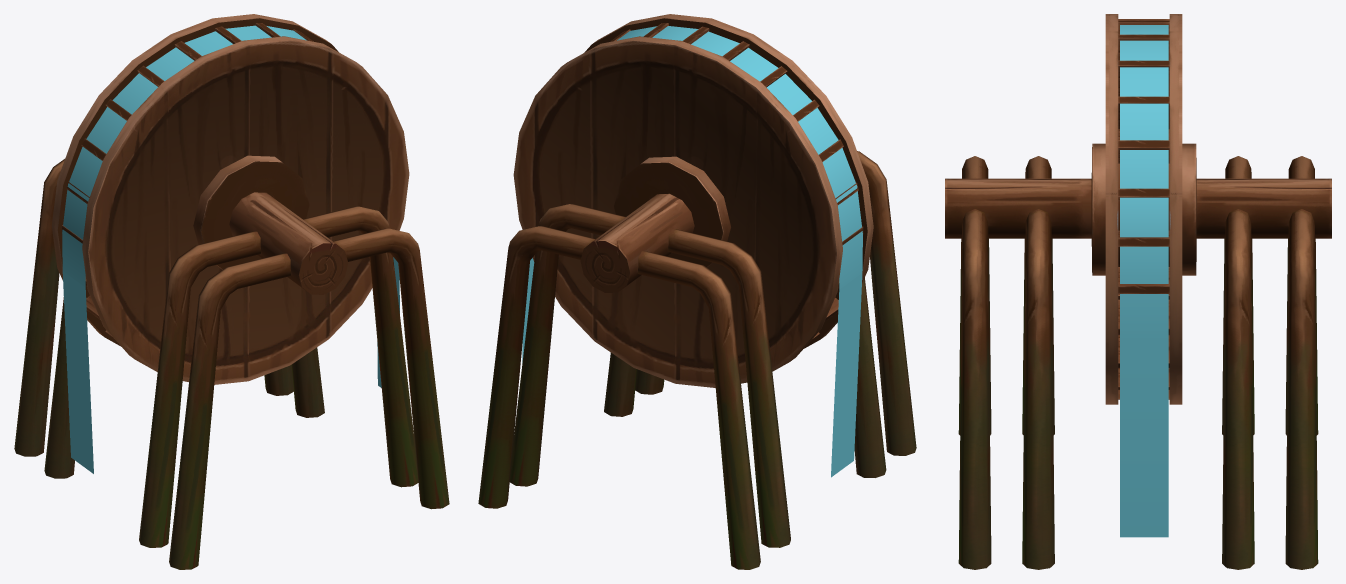
Rendered from shuiche.fbx.
3 renders of one model, left to right at view 1: azimuth 30°, elevation 25°; view 2: azimuth 150°, elevation 25°; view 3: azimuth 270°, elevation 25°, orthographic. The views are drawn at different scales.
Visible parts, largest first — view 1: shuiche, shui; view 2: shuiche, shui; view 3: shuiche, shui.
Part boxes in pixels (x1,y1,x2,y2): shuiche: (14,14,449,569); shui: (62,25,399,473); shuiche: (478,14,916,569); shui: (522,26,862,477); shuiche: (945,14,1331,569); shui: (1120,25,1168,537).
Size of the model in its own units: 118 by 156 by 117.
